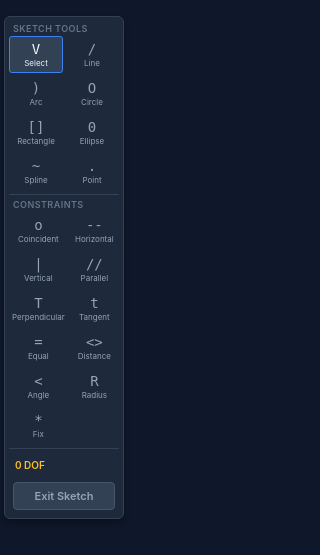
Test: SketchToolbar › should dismiss confirm dialog when Keep is clicked
This screenshot has width=320, height=555.
Click the button "Exit Sketch". click: [64, 496]
box: [13,482,115,510]
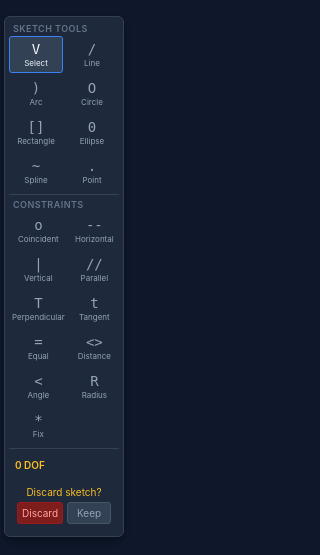
Click the button "Keep". click: [89, 513]
box: [67,502,111,524]
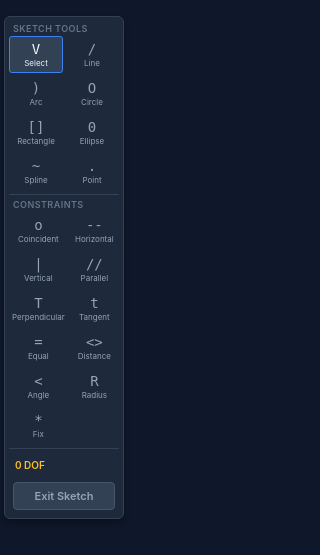
Expected: the text "Discard sketch?" is gone
Expected: the button "Exit Sketch" is shown, [13,482,115,510]
